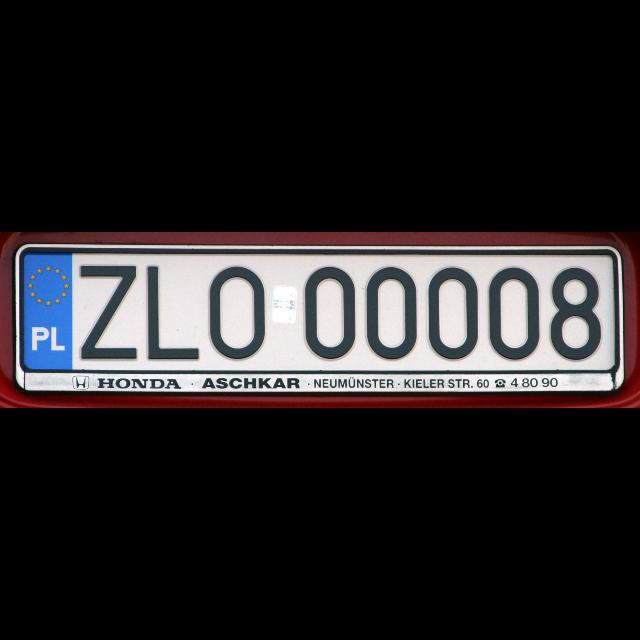pl_license_plate: (20, 250, 618, 376)
